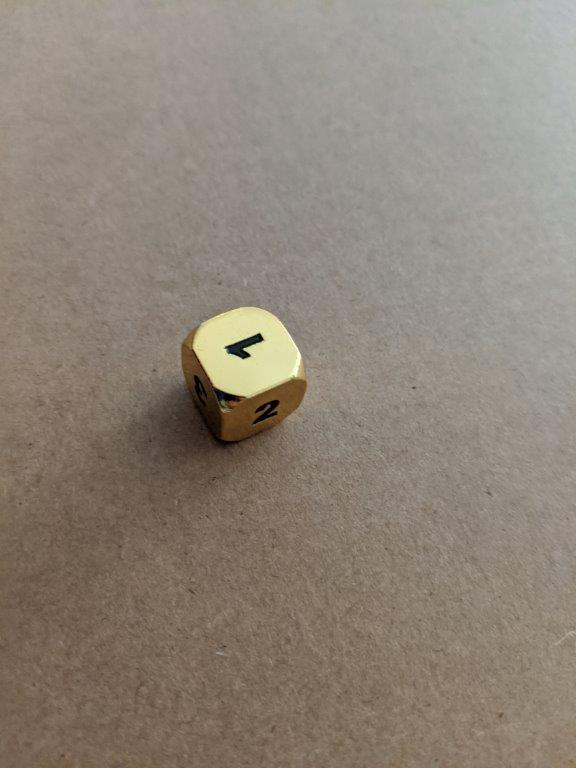d6-1: (182, 303, 308, 445)
